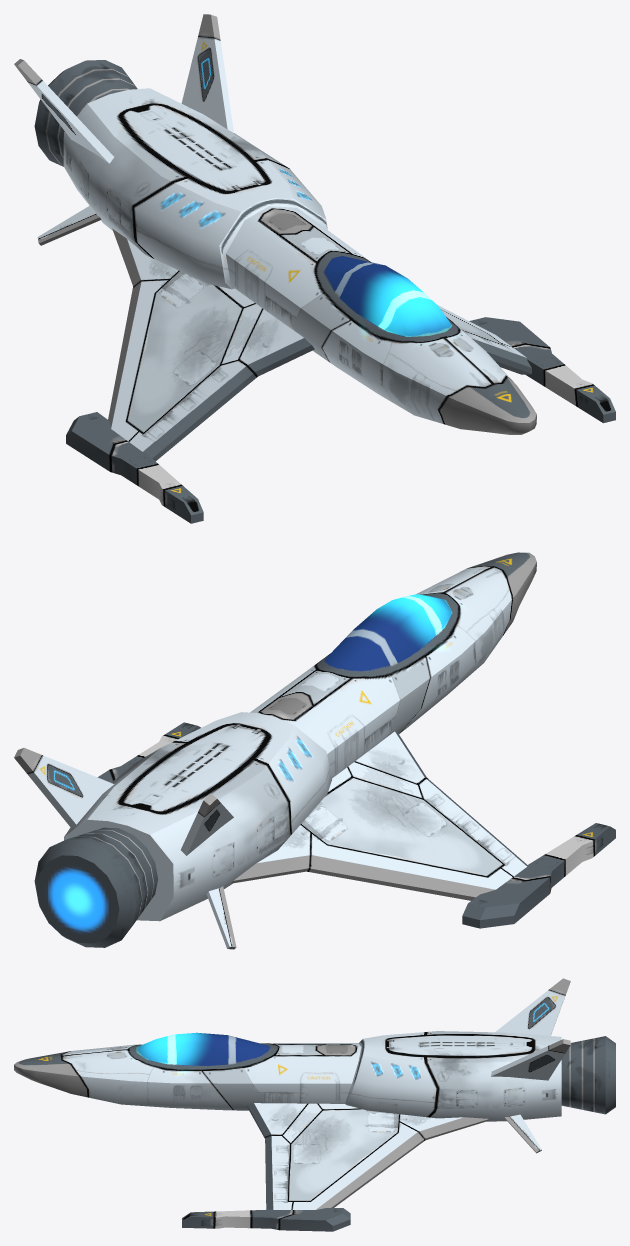
File: WhiteStinger.fbx
3 renders of one model, top to bottom at view 1: azimuth 30°, elevation 25°; view 2: azimuth 150°, elevation 25°; view 3: azimuth 270°, elevation 25°, orthographic. The views are drawn at different scales.
Visible parts, largest first — view 1: StarSparrow13; view 2: StarSparrow13; view 3: StarSparrow13.
Part boxes in pixels (<box>): StarSparrow13: <box>14,14,615,523</box>; StarSparrow13: <box>14,552,615,949</box>; StarSparrow13: <box>14,978,615,1231</box>.
Bounding box in the file's own units: 616 × 296 × 1074.
Materials: 1 (1 with a texture image).
